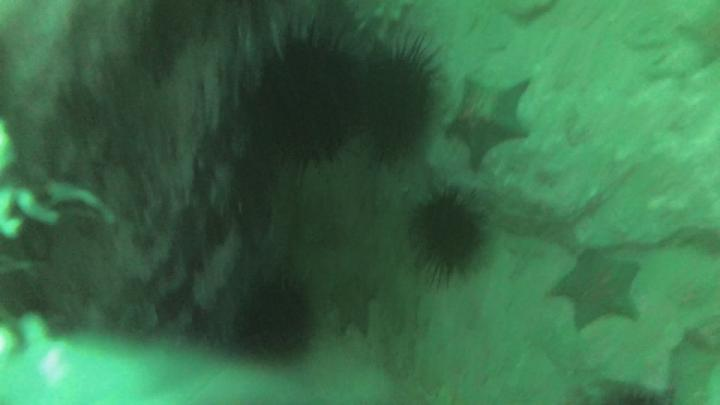echinus: (257, 35, 362, 161), (369, 54, 434, 160), (238, 284, 311, 360), (420, 198, 481, 276)
starfish: (448, 75, 530, 171), (555, 253, 644, 330), (328, 280, 373, 335)
